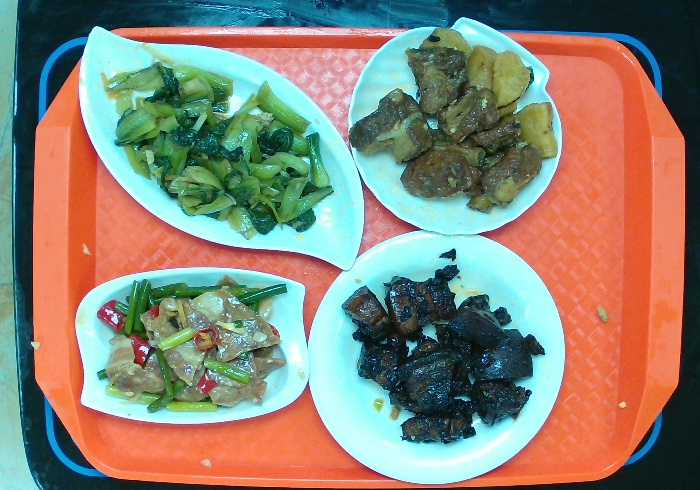RJxy-Bei_Ke_Wan: (339, 12, 568, 242)
RJxy-Jian_Jiao_Fang_Die: (69, 263, 315, 427)
RJxy-Jian_Jiao_Pan: (72, 16, 370, 274)
RJxy-Yuan_Pan: (302, 224, 570, 490)
